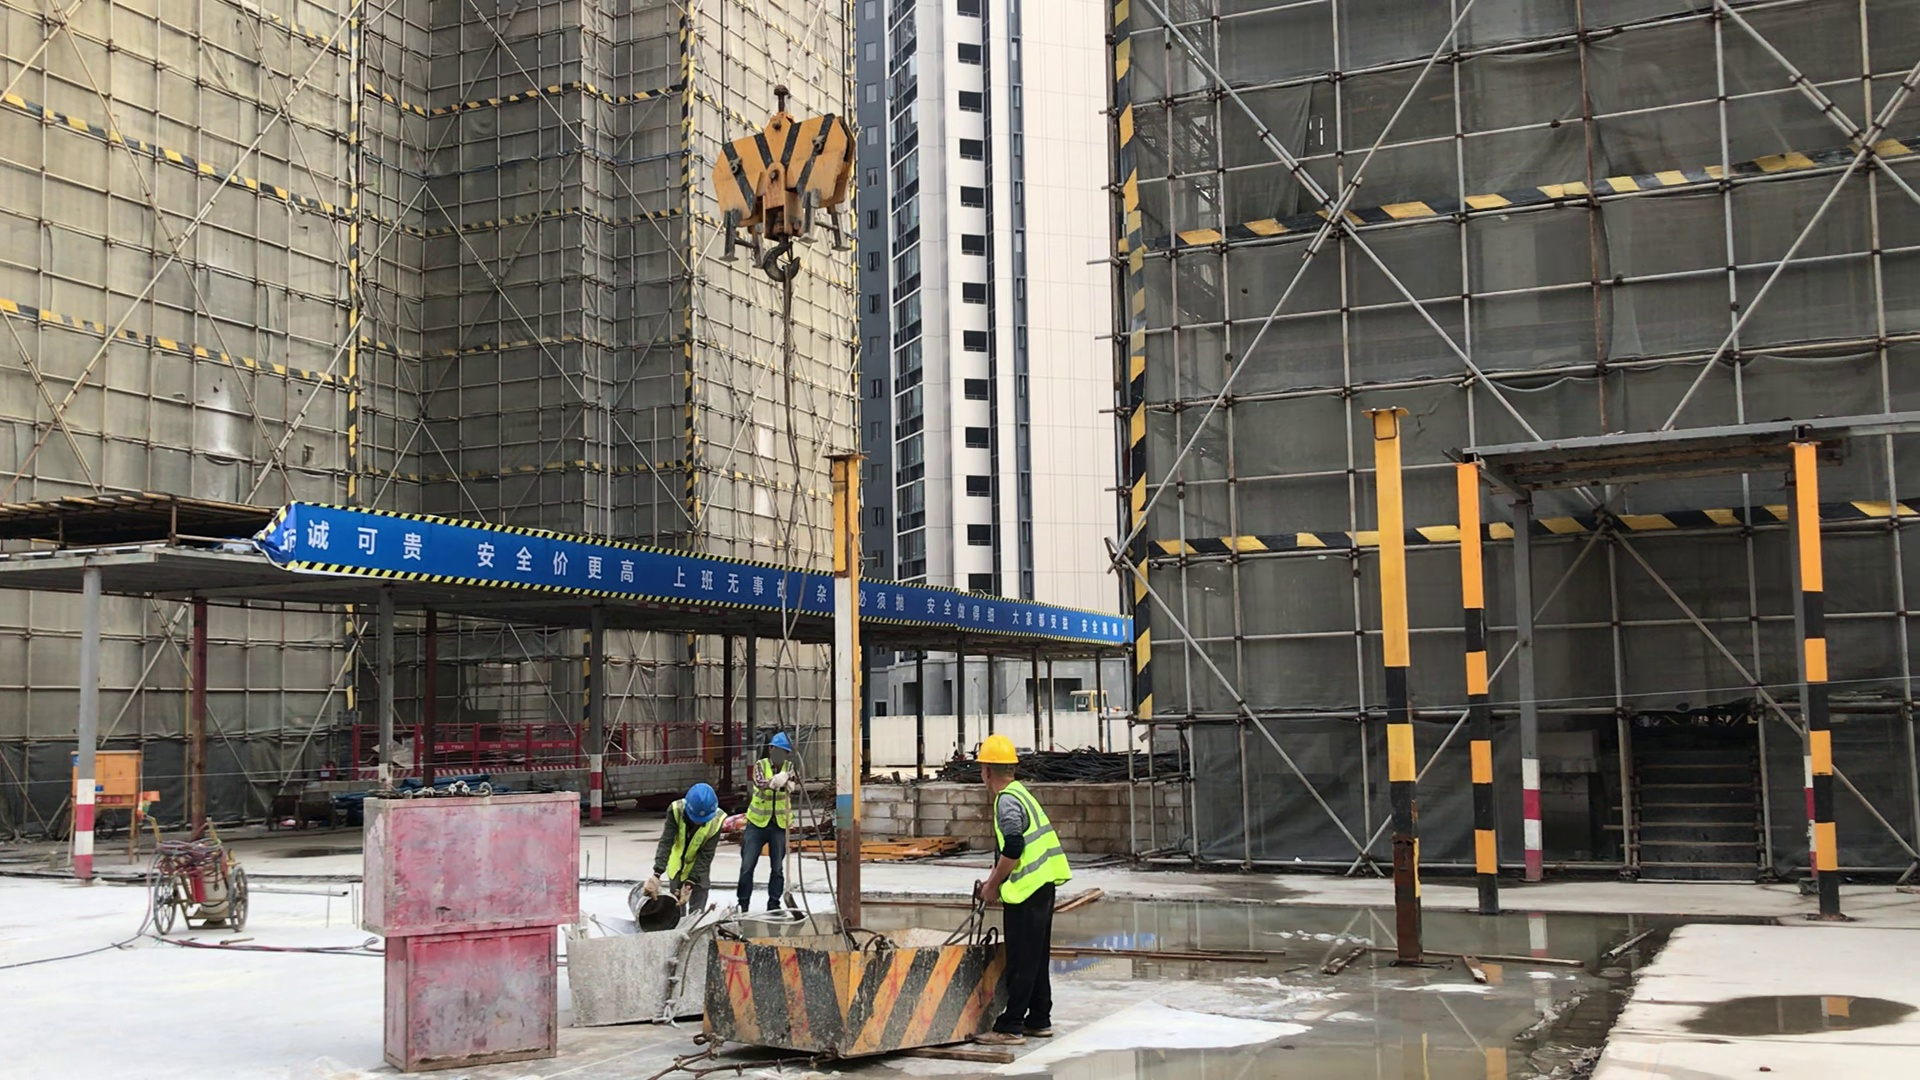ebox: (66, 745, 167, 830)
fence: (338, 719, 737, 789)
handcart: (144, 811, 248, 945)
helmet: (964, 711, 1015, 769), (763, 723, 796, 752), (688, 787, 718, 812)
hook: (708, 76, 864, 286)
hopper: (691, 897, 1030, 1063), (562, 909, 734, 1028)
person: (949, 734, 1078, 1032), (643, 771, 749, 945), (740, 712, 824, 927)
slogan: (248, 468, 1140, 668)
vest: (978, 787, 1069, 917), (663, 798, 722, 894), (751, 756, 799, 832)
